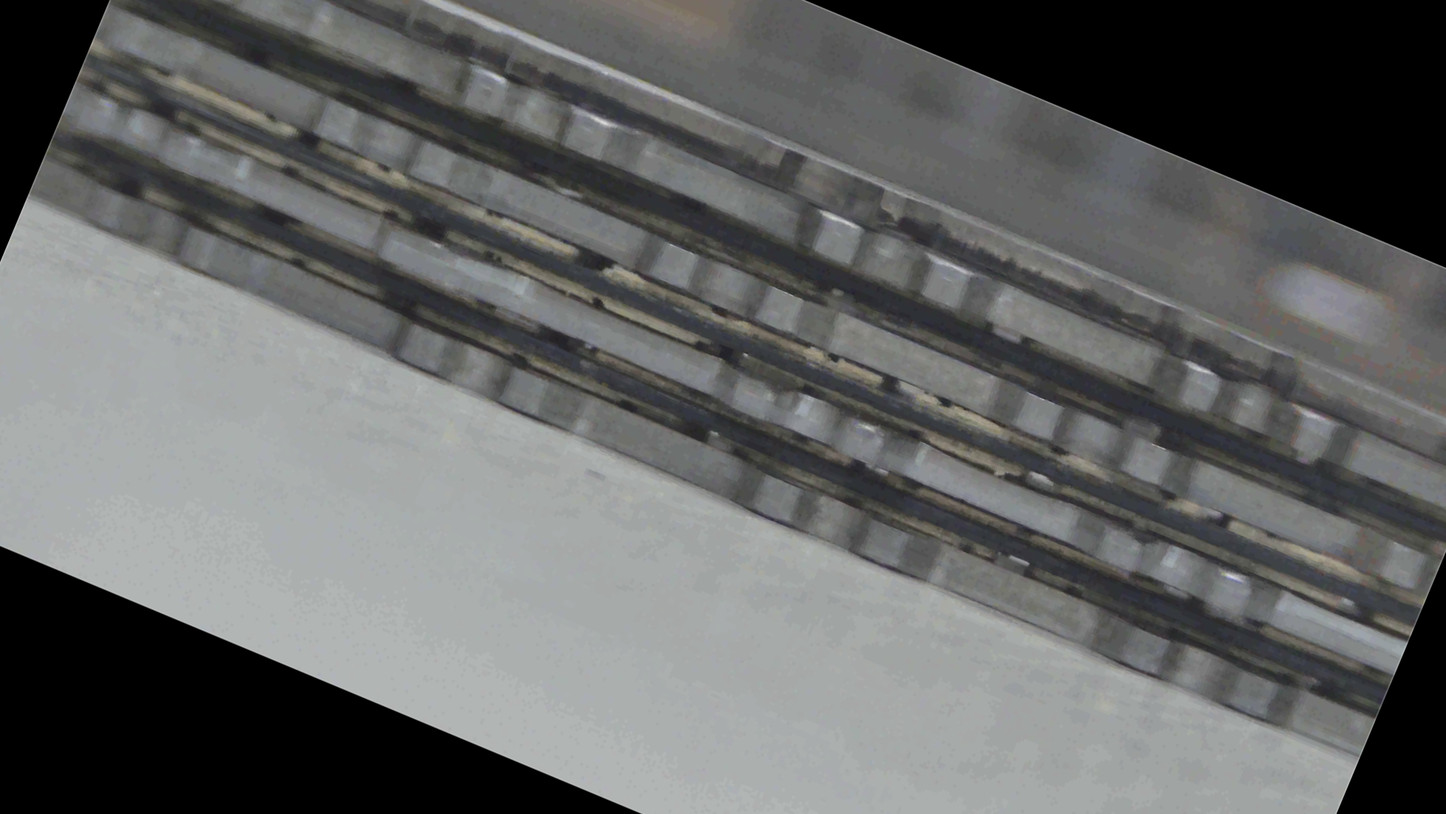Black metal plate: (30, 161, 1374, 753), (2, 626, 1442, 678)
shiney metal plate: (50, 55, 1371, 704), (80, 45, 1446, 552), (0, 181, 1445, 234)
spacer: (0, 0, 1327, 548), (1, 382, 1445, 451), (2, 325, 1445, 351)
